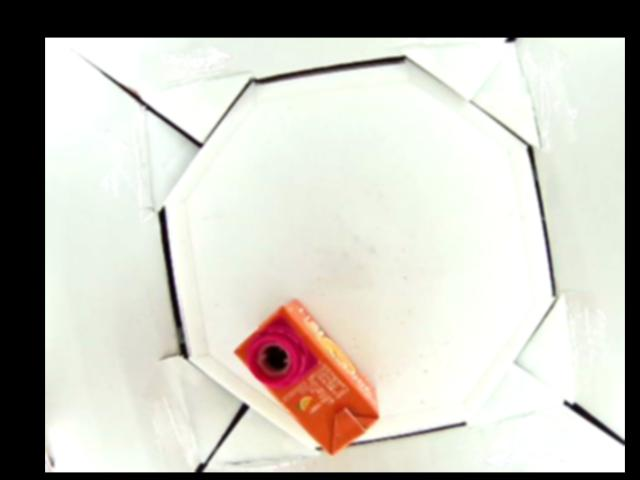Bottle: (234, 297, 380, 456)
